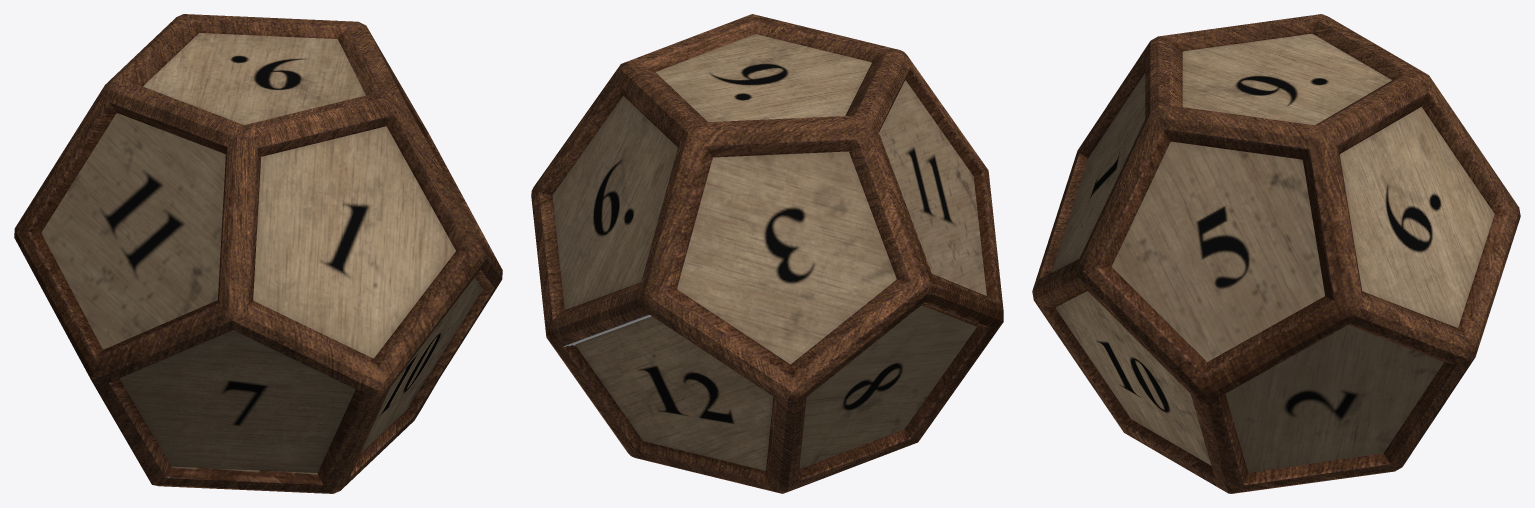
3 renders of one model, left to right at view 1: azimuth 30°, elevation 25°; view 2: azimuth 150°, elevation 25°; view 3: azimuth 270°, elevation 25°, orthographic. The views are drawn at different scales.
Parts seen in each view (by area): view 1: polySurface3_d12_0; view 2: polySurface3_d12_0; view 3: polySurface3_d12_0.
Part boxes in pixels (x1,y1,x2,y2): polySurface3_d12_0: (14, 14, 502, 493); polySurface3_d12_0: (531, 14, 1003, 493); polySurface3_d12_0: (1032, 14, 1520, 493).
Size of the model in its own units: 0.0348 by 0.03 by 0.0366.
1 material, 1 textured.
